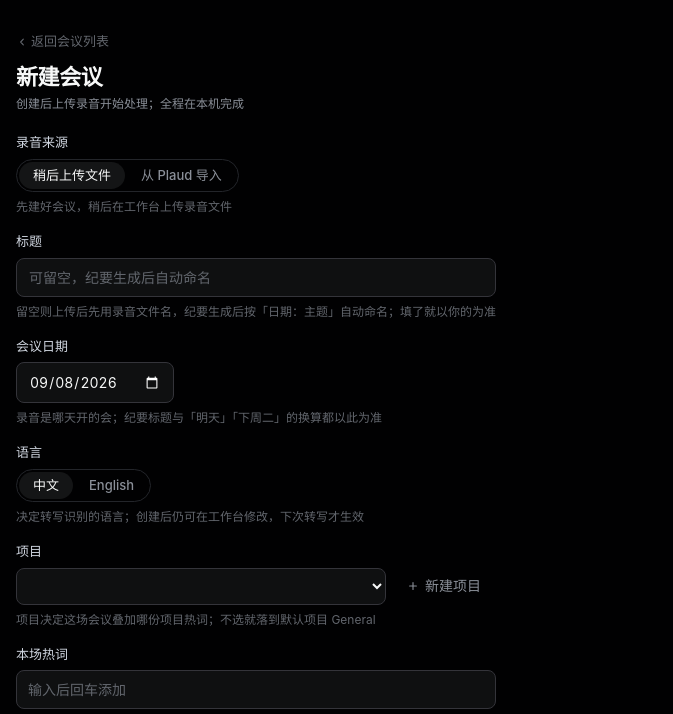
Test case: 新建会议 · 从 Plaud 导入 › 默认是「稍后上传文件」，切到 Plaud 才出录音列表；没选录音不给提交
expect the field labelled "按录音名称搜索" is not shown: met
Click the button "从 Plaud 导入". click: {"x": 181, "y": 176}
box: [127,162,236,189]
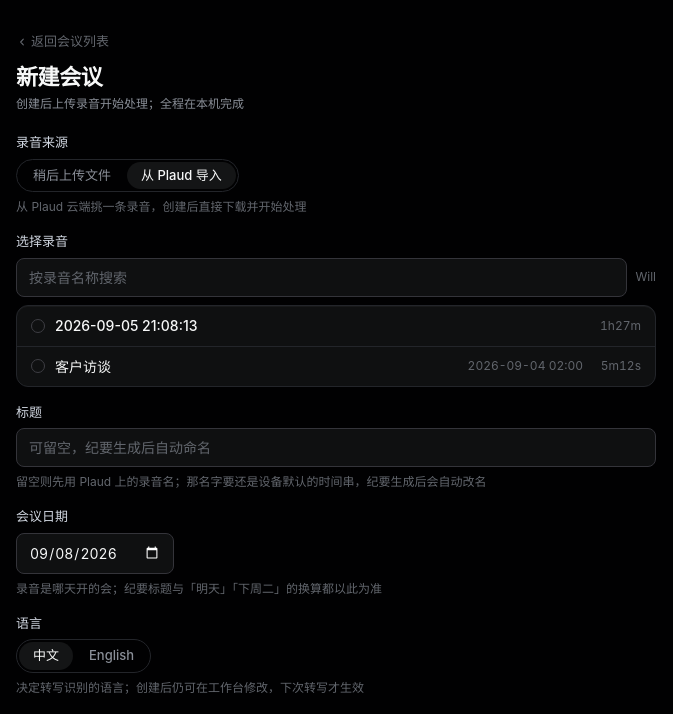
expect the text "客户访谈" is shown: met, box [55,358,111,375]
Click the radio button labelled "客户访谈 2026-09-04 02:00 5m12s". click: {"x": 83, "y": 366}
box: [17,346,655,386]
(page scrolled)
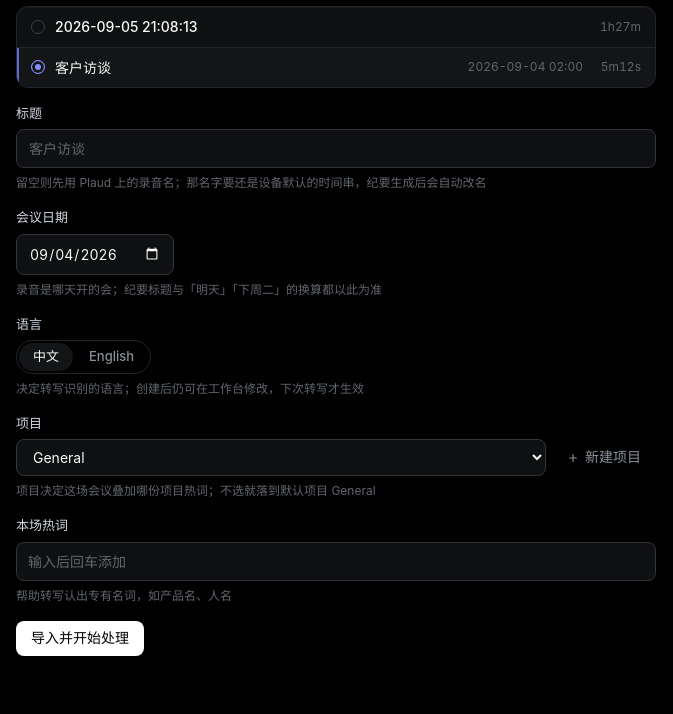
expect the button "导入并开始处理" is enabled: met, box [16,621,144,656]
